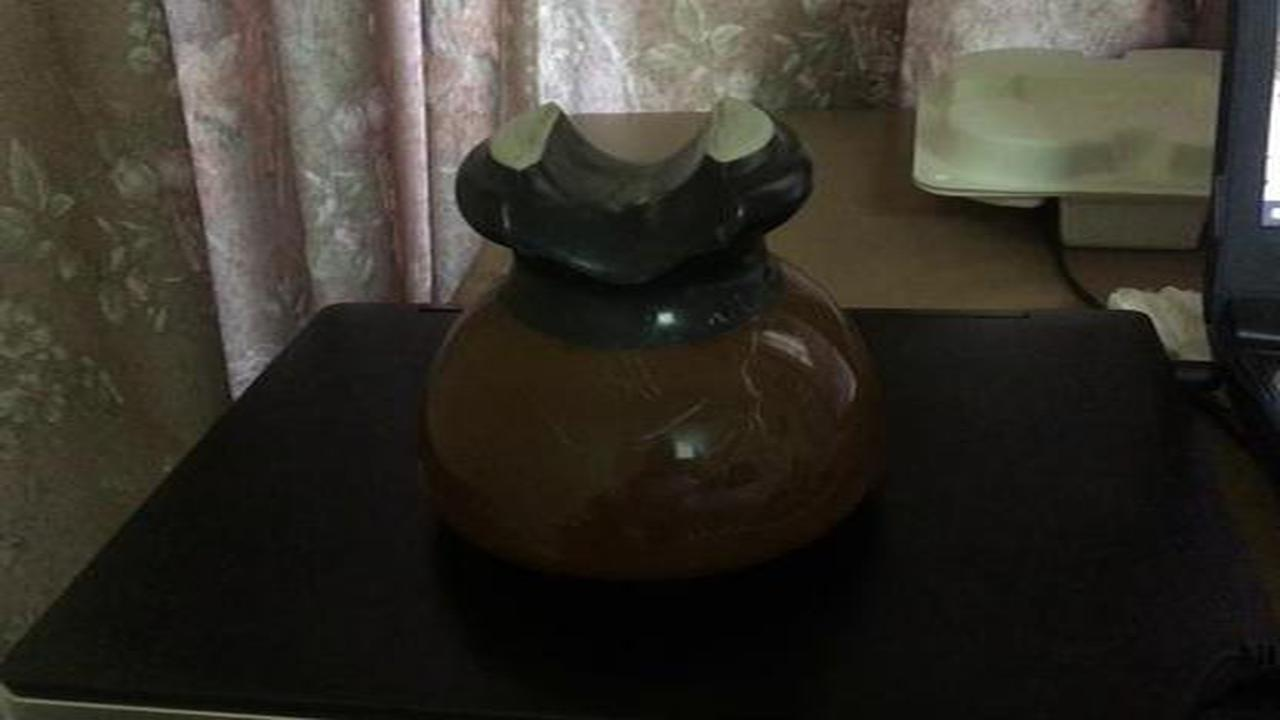insulator_pin: (404, 90, 924, 599)
